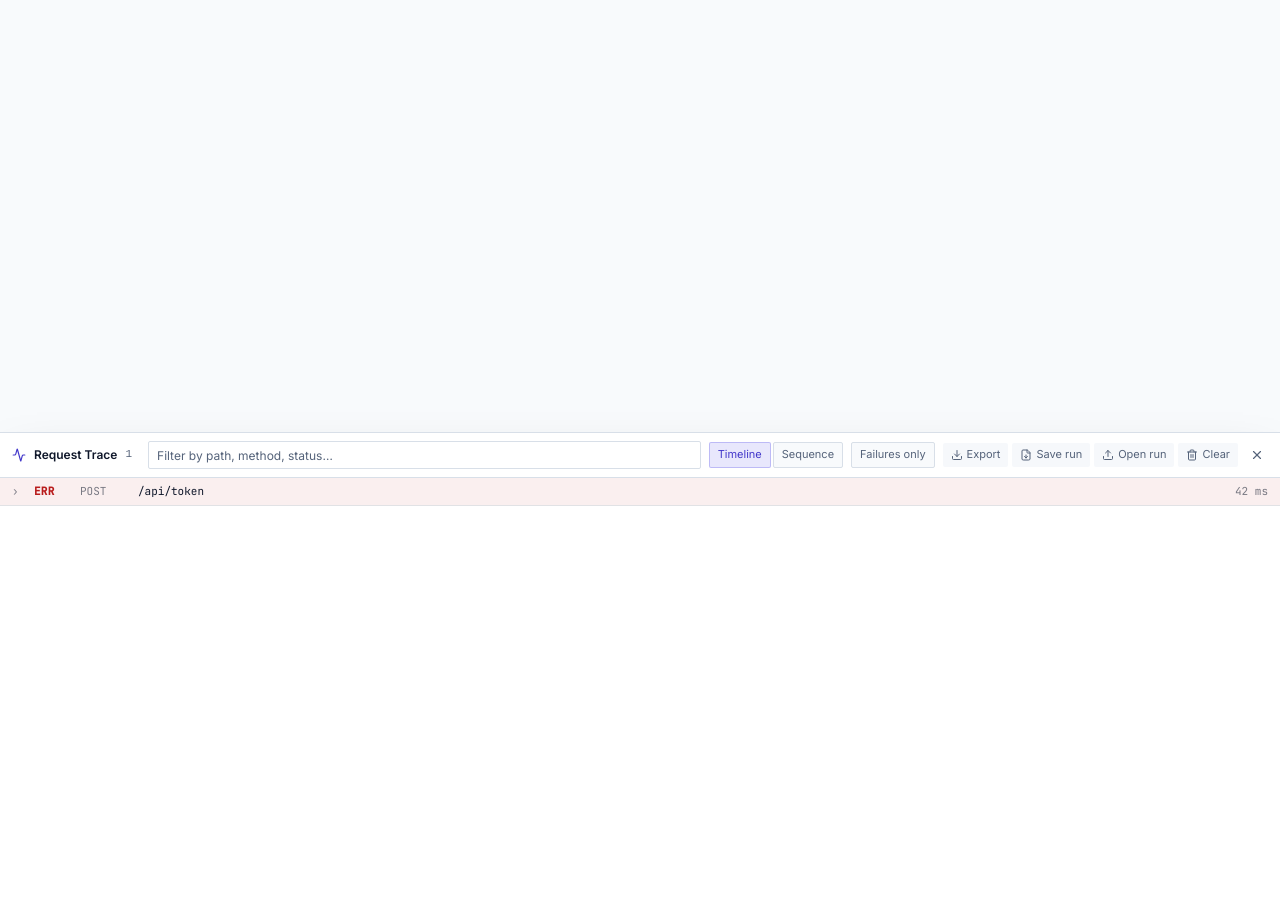
Test case: TracePanel › surfaces a network failure distinctly from an HTTP status
Expected: the text "ERR" is shown, [34,484,54,498]
Click the button "› ERR POST /api/token 42 ms". click: {"x": 171, "y": 491}
box: [0,478,1279,504]
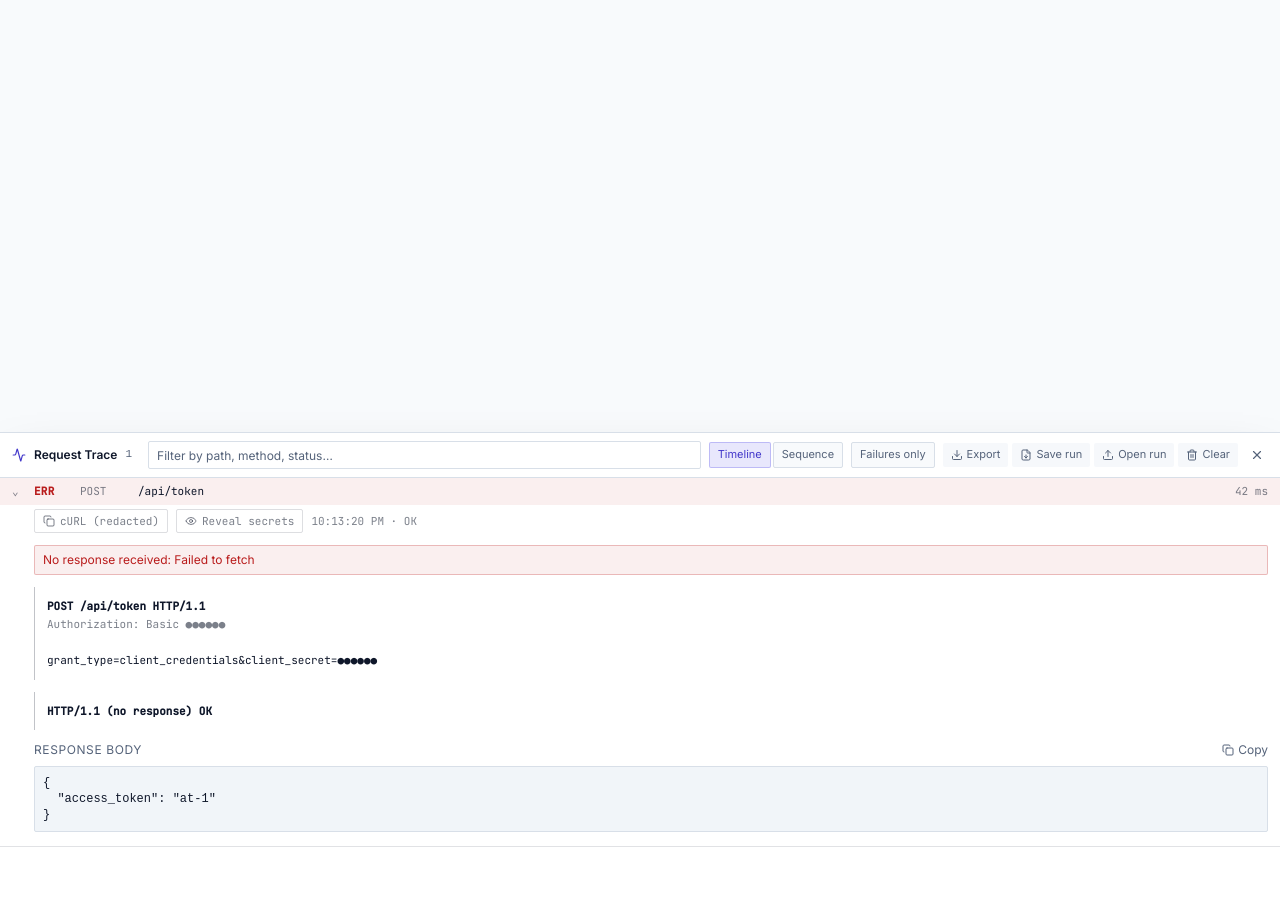
Expected: the text "No response received: Failed to fetch" is shown, [43,552,255,567]
